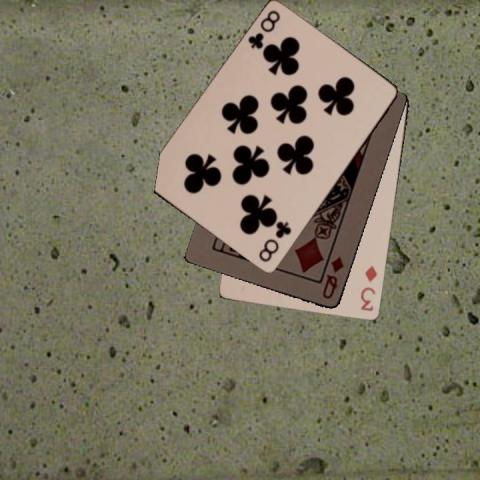3d: (357, 263, 379, 313)
8c: (256, 219, 294, 264), (245, 8, 282, 52)
Qd: (320, 253, 346, 301)
